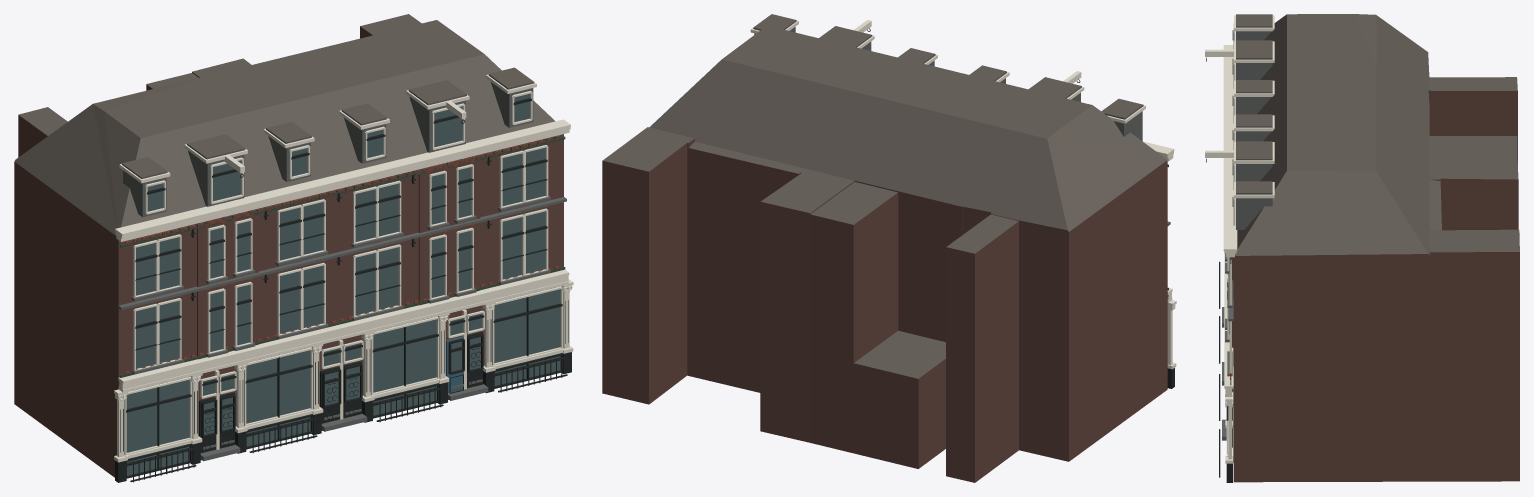
File: electric-ladyland.glb
3 views of the same model, side by side, from view 1: azimuth 30°, elevation 25°; view 2: azimuth 150°, elevation 25°; view 3: azimuth 270°, elevation 25° (orthographic). The views are drawn at different scales.
Parts seen in each view (by area): view 1: electric-ladyland; view 2: electric-ladyland; view 3: electric-ladyland.
Part boxes in pixels (box(x1,y1,x2,y2)): electric-ladyland: box(14, 14, 573, 482); electric-ladyland: box(602, 14, 1176, 482); electric-ladyland: box(1205, 14, 1519, 482).
Bounding box in the file's own units: 19.85 × 12.88 × 12.74.
